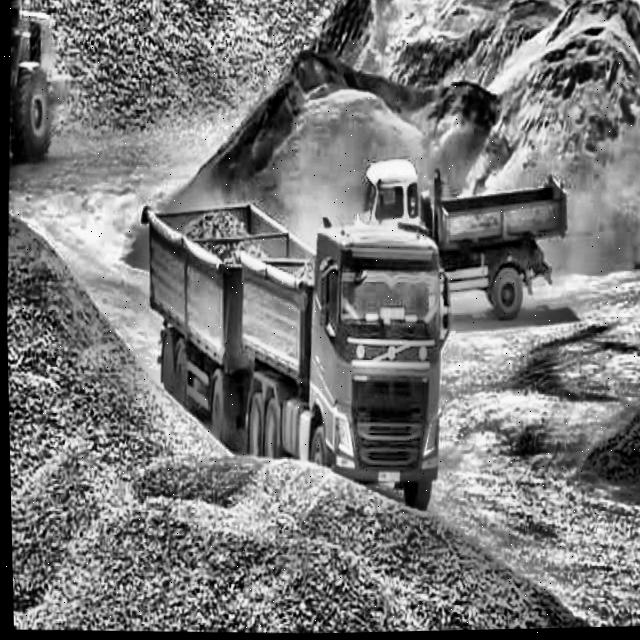buldozerpayloadergrader: (4, 0, 80, 190)
dump_truck: (132, 187, 446, 524), (366, 159, 566, 322)
